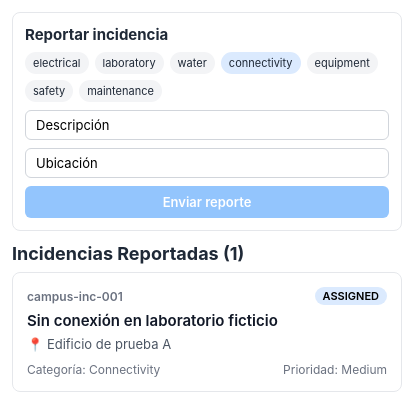
Test: operaciones por perfil › ui-role-reporter: el reportante ve el formulario y ninguna operación de atención
expect the text "Incidencias Reportadas (1)" is shown: met, box top-left (12, 243), bottom-right (244, 264)
Click the button with aria-label "Ver detalle de incidencia Sin conexión en laboratorio fictic".
click(207, 332)  # box top-left (12, 272), bottom-right (402, 392)
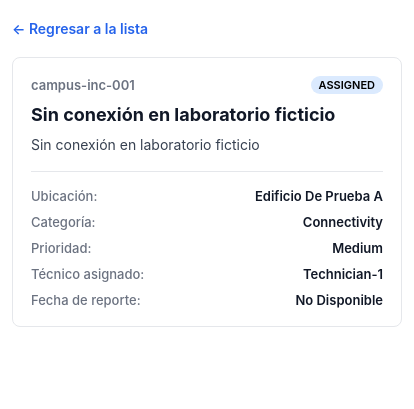
expect the button with test id "back-to-list-button" is shown: met, box top-left (12, 12), bottom-right (402, 45)
